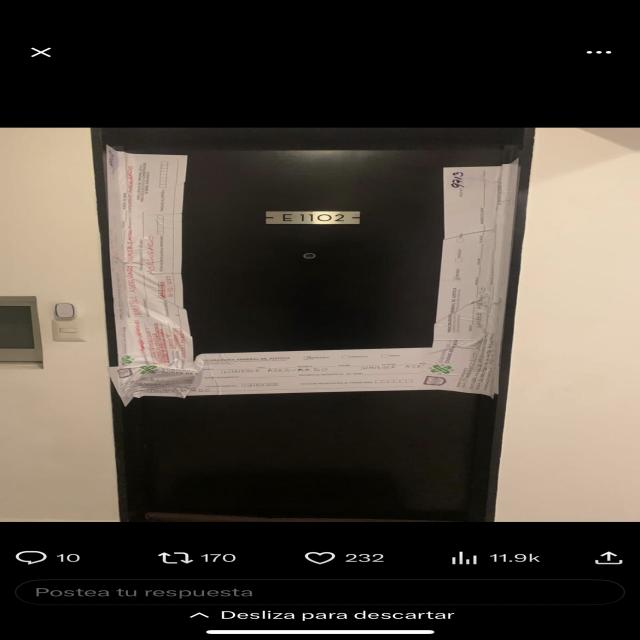stamps: (427, 167, 514, 392), (106, 147, 189, 367), (109, 349, 428, 406)
